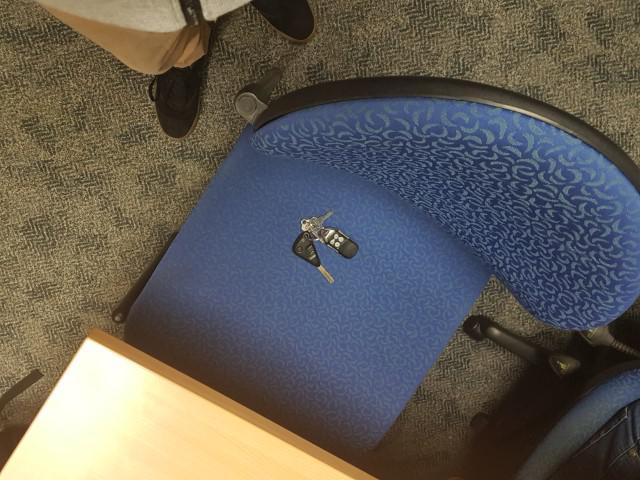key: (289, 230, 337, 287)
